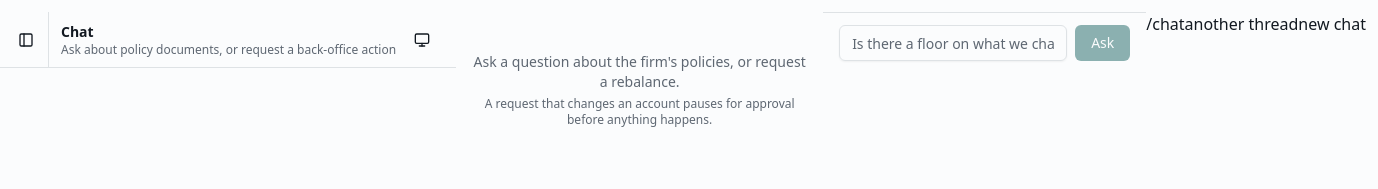
Scenario: ChatPage › marks a refusal as a dead end
The image size is (1378, 189).
Type "rebalance AC-99999" into the field named "Message" at (953, 43), box [839,25,1067,61]
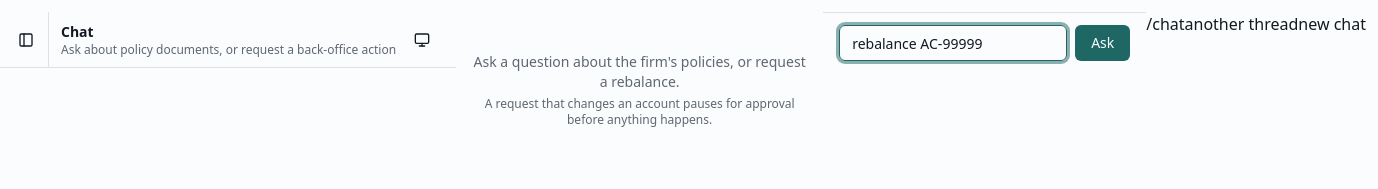
Click the button "Ask" at (1103, 43), box [1075,25,1130,61]
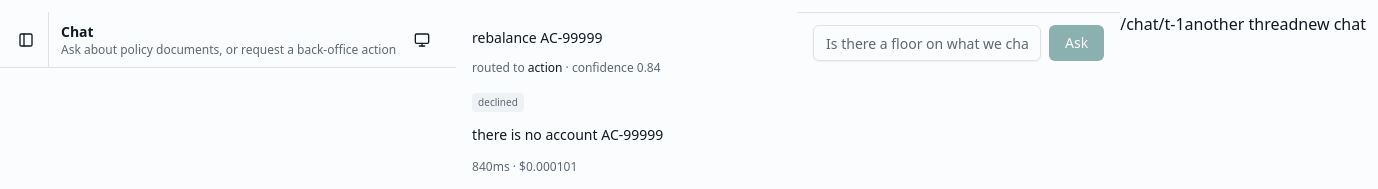
Check: the text "declined" is shown, box [472,93,524,112]
Check: the text with test id "outcome" reads "declined", box [478,95,518,109]
